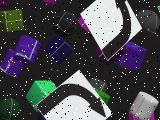Left: (80, 0, 142, 61)
Right: (35, 70, 113, 120)
